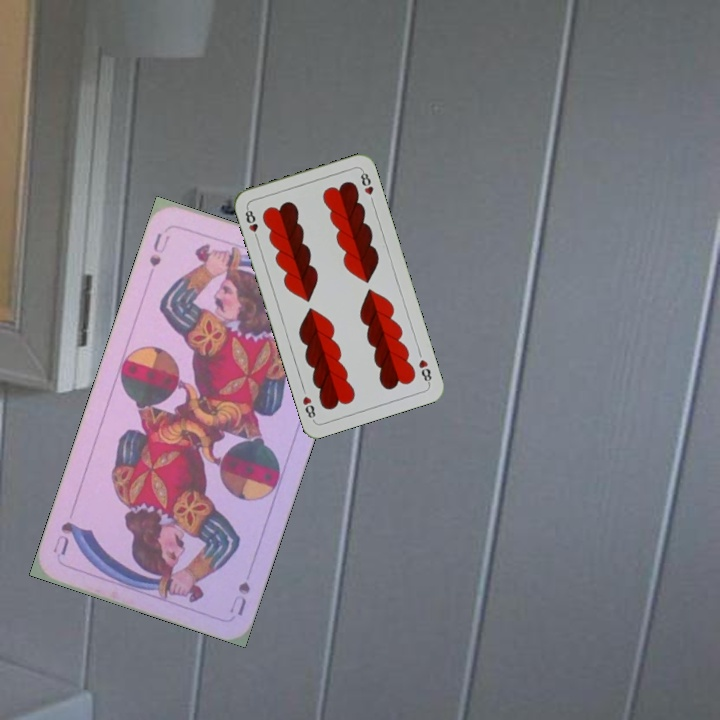H8: (241, 203, 261, 243), (415, 355, 434, 387)
SU: (225, 577, 253, 619), (145, 228, 173, 270)
